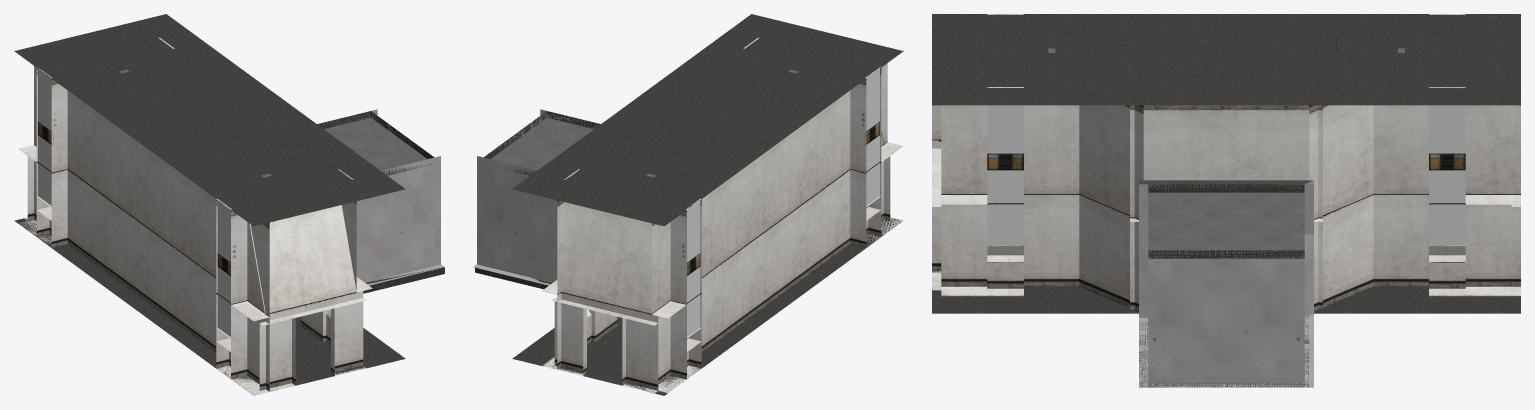
Rendered from Elevator.glb.
The picture shows the model from 3 angles, left to right: view 1: azimuth 30°, elevation 25°; view 2: azimuth 150°, elevation 25°; view 3: azimuth 270°, elevation 25°; orthographic projection. The views are drawn at different scales.
Parts seen in each view (by area): view 1: default_drawnmesh1_0, default_drawnmesh5_0, default_drawnmesh7_0, default_drawnmesh3_0, default_drawnmesh2_0, default_drawnmesh4_0, default_drawnmesh8_0; view 2: default_drawnmesh1_0, default_drawnmesh5_0, default_drawnmesh7_0, default_drawnmesh3_0, default_drawnmesh2_0, default_drawnmesh4_0, default_drawnmesh8_0; view 3: default_drawnmesh1_0, default_drawnmesh5_0, default_drawnmesh7_0, default_drawnmesh2_0, default_drawnmesh3_0, default_drawnmesh4_0, default_drawnmesh8_0.
Boxes of the visible parts, left/top/right/bottom form: default_drawnmesh1_0: left=18, top=66, right=372, bottom=395; default_drawnmesh5_0: left=14, top=14, right=434, bottom=391; default_drawnmesh7_0: left=319, top=109, right=444, bottom=285; default_drawnmesh3_0: left=36, top=37, right=353, bottom=338; default_drawnmesh2_0: left=53, top=69, right=427, bottom=258; default_drawnmesh4_0: left=34, top=122, right=356, bottom=314; default_drawnmesh8_0: left=363, top=267, right=444, bottom=293; default_drawnmesh1_0: left=541, top=63, right=903, bottom=393; default_drawnmesh5_0: left=483, top=14, right=903, bottom=395; default_drawnmesh7_0: left=473, top=109, right=600, bottom=285; default_drawnmesh3_0: left=564, top=37, right=881, bottom=338; default_drawnmesh2_0: left=490, top=69, right=864, bottom=257; default_drawnmesh4_0: left=560, top=122, right=884, bottom=314; default_drawnmesh8_0: left=475, top=267, right=551, bottom=289; default_drawnmesh1_0: left=932, top=105, right=1520, bottom=311; default_drawnmesh5_0: left=932, top=14, right=1520, bottom=313; default_drawnmesh7_0: left=1139, top=180, right=1313, bottom=387; default_drawnmesh2_0: left=1048, top=48, right=1404, bottom=340; default_drawnmesh3_0: left=987, top=14, right=1465, bottom=246; default_drawnmesh4_0: left=939, top=140, right=1511, bottom=216; default_drawnmesh8_0: left=1139, top=316, right=1309, bottom=387.
Size of the model in its own units: 13.6 by 8.87 by 20.48.
9 materials, 8 textured.
